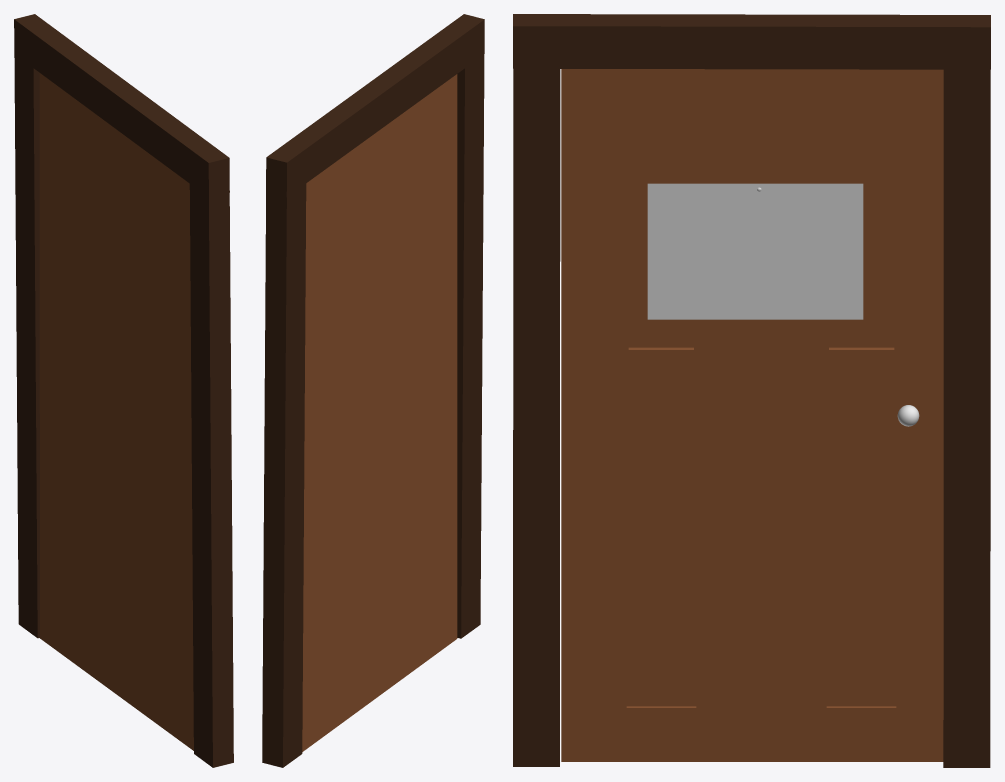
Rendered from door.fbx.
3 views of the same model, side by side, from view 1: azimuth 30°, elevation 25°; view 2: azimuth 150°, elevation 25°; view 3: azimuth 270°, elevation 25° (orthographic). The views are drawn at different scales.
Parts seen in each view (by area): view 1: Cube, Cube.002; view 2: Cube, Cube.002; view 3: Cube, Cube.002, Plane.
Part boxes in pixels (<box>): Cube: <box>39,73,193,750</box>; Cube.002: <box>14,14,233,767</box>; Cube: <box>302,74,457,751</box>; Cube.002: <box>262,14,484,767</box>; Cube: <box>561,69,943,761</box>; Cube.002: <box>513,14,990,767</box>; Plane: <box>647,183,863,319</box>.
Bounding box in the file's own units: 23.9 × 404 × 237.
